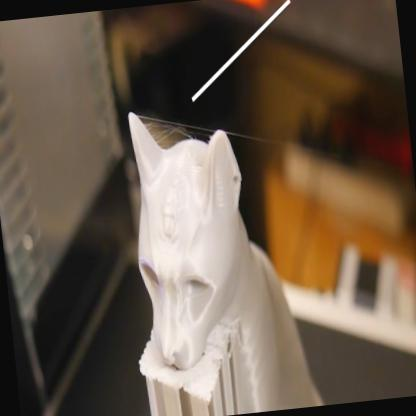fail: (139, 107, 199, 146)
